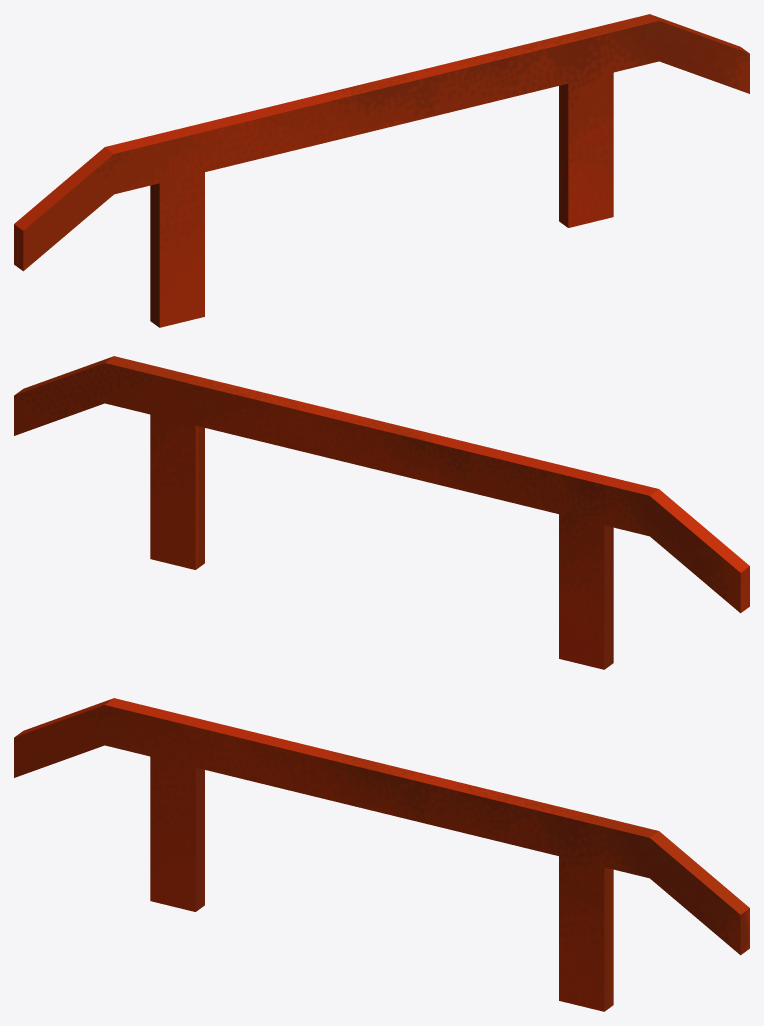
Rendered from barrier.fbx.
The picture shows the model from 3 angles, top to bottom: view 1: azimuth 30°, elevation 25°; view 2: azimuth 150°, elevation 25°; view 3: azimuth 330°, elevation 25°; orthographic projection.
Parts seen in each view (by area): view 1: Cube.067; view 2: Cube.067; view 3: Cube.067.
Boxes of the visible parts, x1,y1,x2,y2 form: Cube.067: (14,14,749,327); Cube.067: (14,356,749,669); Cube.067: (14,698,749,1011).
Bounding box in the file's own units: 18.82 × 4.58 × 0.4203.
